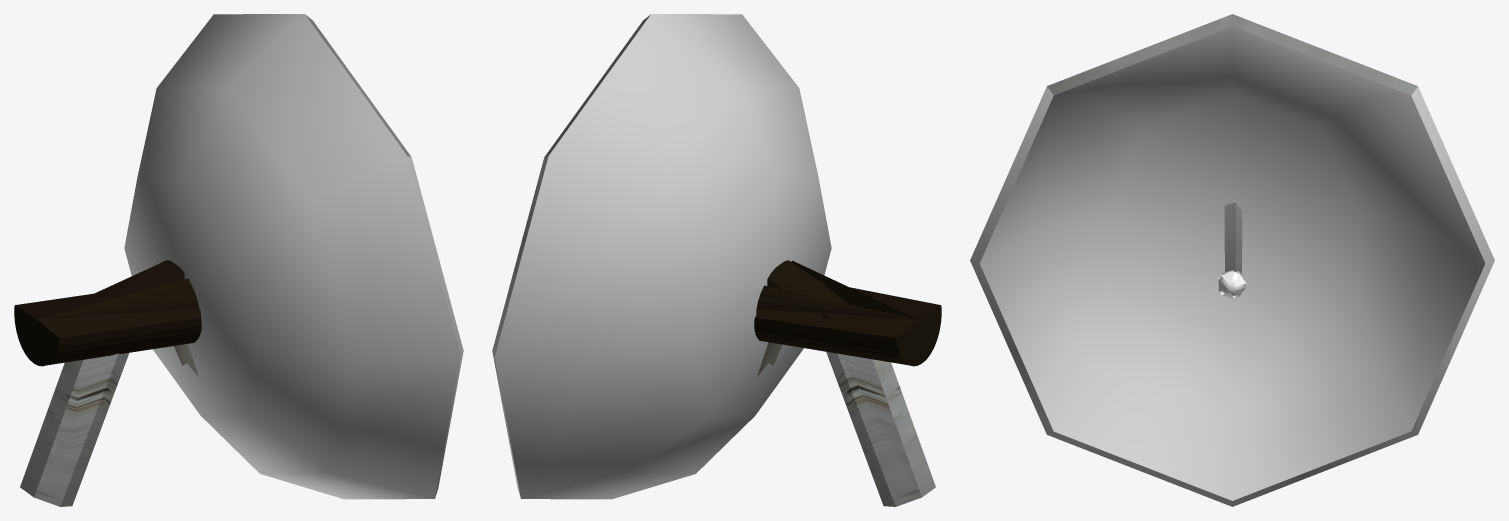
The model's file is parabolic.glb.
3 views of the same model, side by side, from view 1: azimuth 30°, elevation 25°; view 2: azimuth 150°, elevation 25°; view 3: azimuth 270°, elevation 25° (orthographic). The views are drawn at different scales.
Visible parts, largest first — view 1: Antena_Ban_0.020, Cylinder, parabolic; view 2: Antena_Ban_0.020, Cylinder, parabolic; view 3: Antena_Ban_0.020, Antena_Ban_0.021.
Boxes of the visible parts, <box> form: Antena_Ban_0.020: <box>124,14,463,499</box>; Cylinder: <box>14,260,201,366</box>; parabolic: <box>20,353,129,506</box>; Antena_Ban_0.020: <box>492,14,831,499</box>; Cylinder: <box>754,260,941,366</box>; parabolic: <box>826,351,935,506</box>; Antena_Ban_0.020: <box>970,14,1494,506</box>; Antena_Ban_0.021: <box>1217,202,1246,298</box>.
Size of the model in its own units: 0.3355 by 0.4382 by 0.4393.
5 materials, 1 textured.
